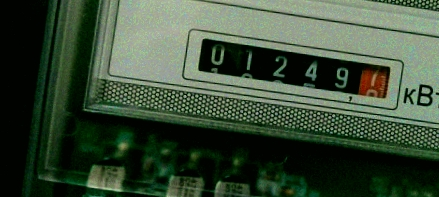0: (208, 40, 227, 67)
1: (240, 45, 255, 72)
2: (269, 53, 288, 80)
4: (302, 56, 320, 82)
7: (366, 62, 382, 89)
9: (331, 63, 349, 90)
screen: (178, 26, 407, 114)
